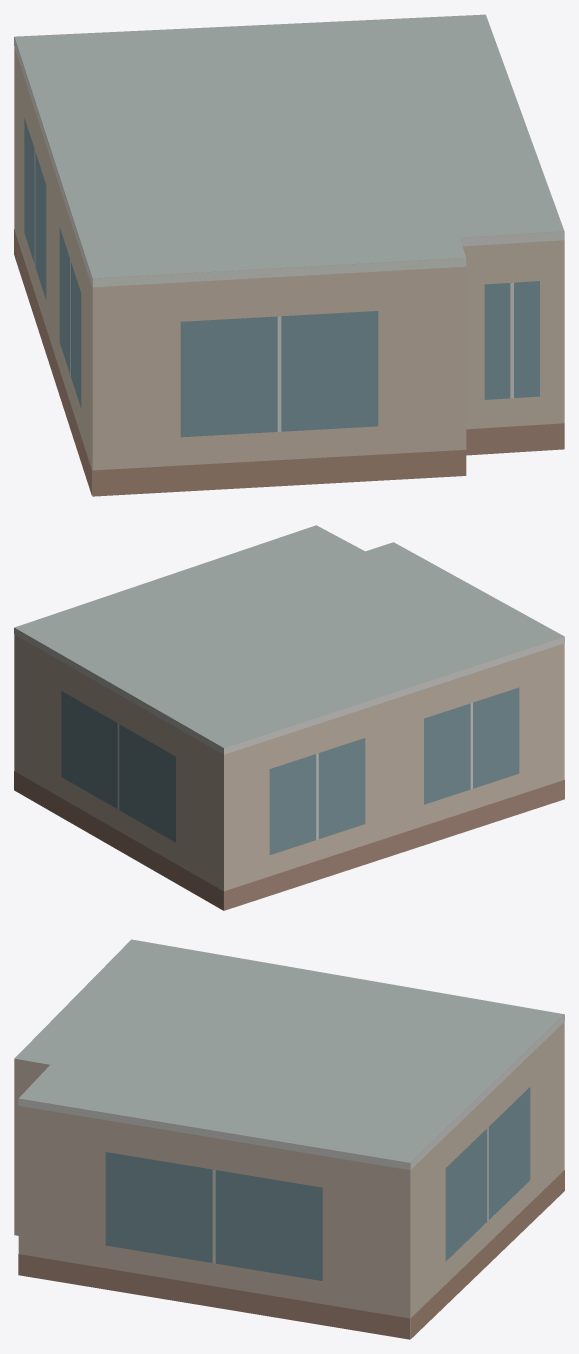
Rendered from survey-upis-32810675.glb.
The picture shows the model from 3 angles, top to bottom: view 1: azimuth 30°, elevation 25°; view 2: azimuth 150°, elevation 25°; view 3: azimuth 270°, elevation 25°; orthographic projection. The views are drawn at different scales.
Visible parts, largest first — view 1: survey-upis-32810675.tmp; view 2: survey-upis-32810675.tmp; view 3: survey-upis-32810675.tmp.
Part boxes in pixels (left/top/right/bottom): survey-upis-32810675.tmp: left=14, top=14, right=564, bottom=496; survey-upis-32810675.tmp: left=14, top=525, right=564, bottom=910; survey-upis-32810675.tmp: left=14, top=939, right=564, bottom=1339.
Bounding box in the file's own units: 8.29 × 3.05 × 8.63.
